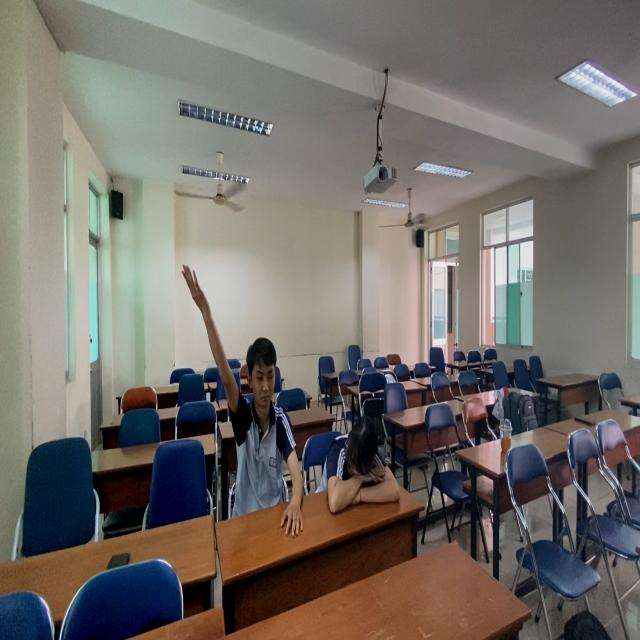raise_hand: (179, 264, 307, 518)
sleep: (320, 412, 410, 517)
